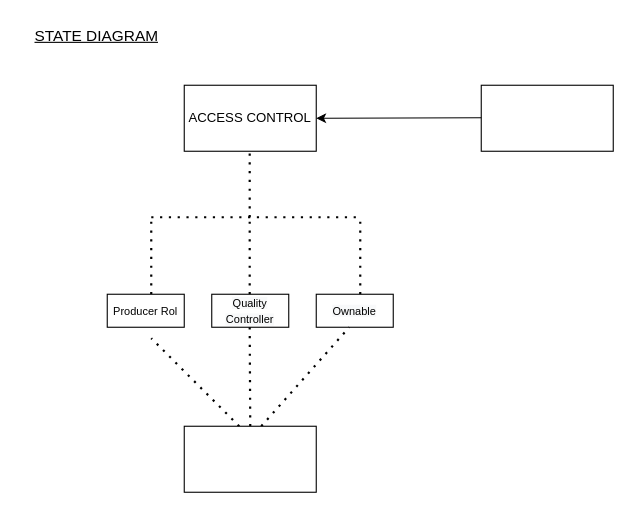
The diagram is 633 pixels wide and 512 high, and some of its shapes have lost their labels. Each missing label, with the centre of its shape:
CORE: the point at 546,117
Roles Contract: the point at 249,458
